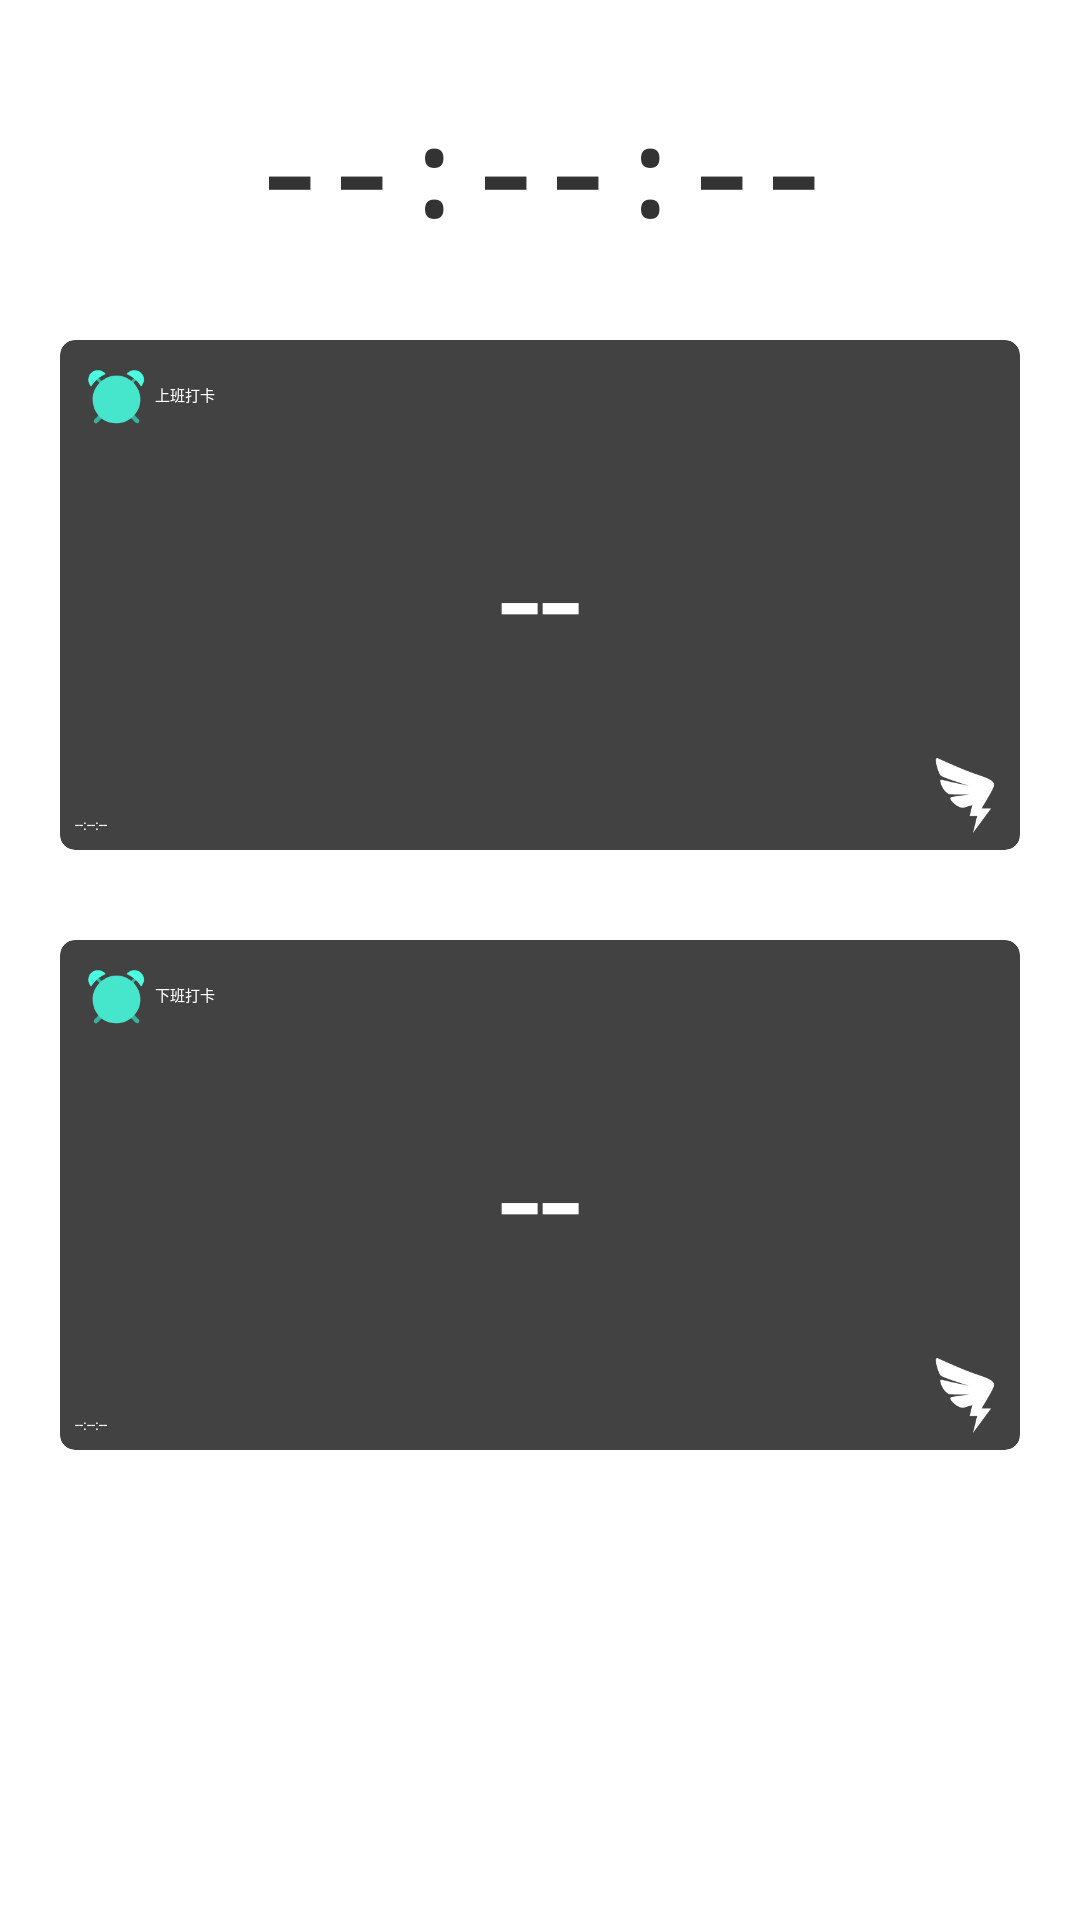

Where icons sit on this 1080 × 1920 app screen, as (x1, y1, x2, y2):
clock: (88, 370, 144, 424), (88, 970, 144, 1024)
